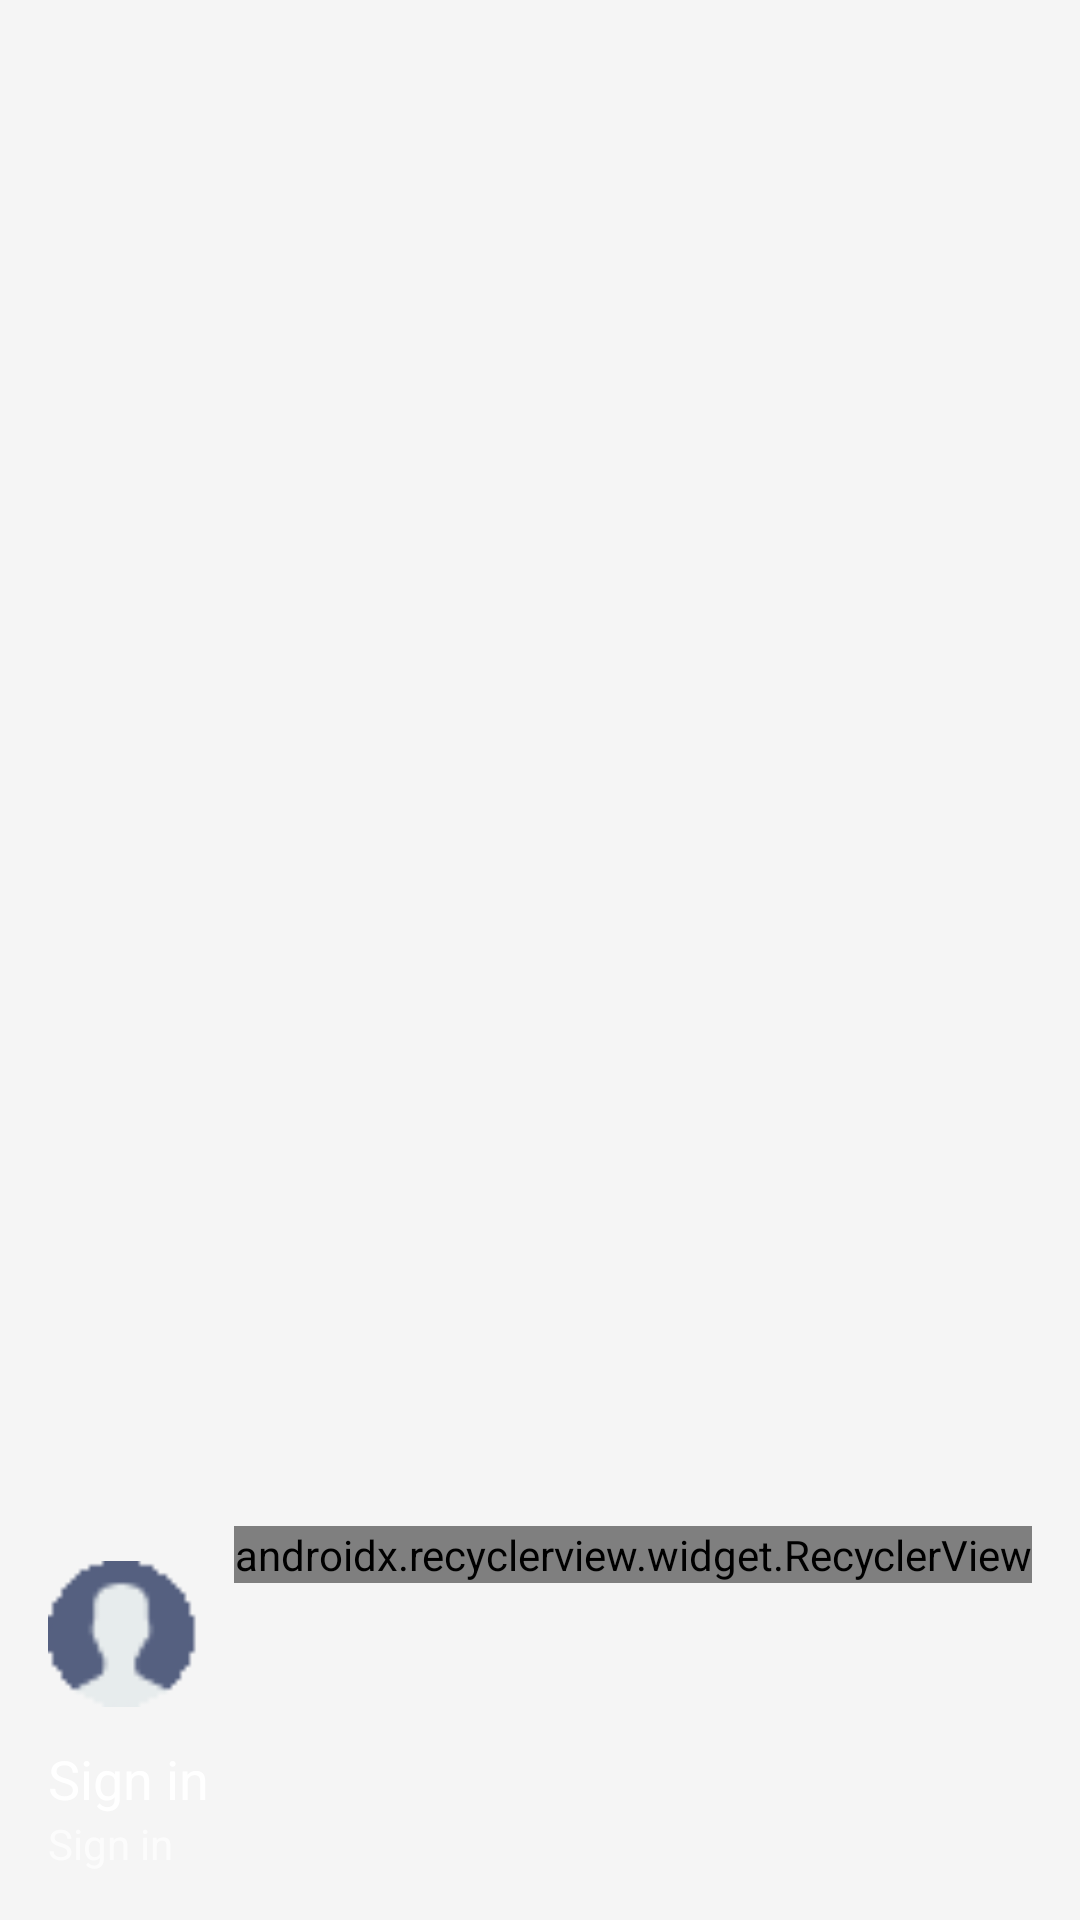

Named icons in this screenshot (1080px×1920px) and their bounding boxes, Rect(x1, y1, x2, y2):
User pgoto: Rect(48, 1561, 196, 1691)
